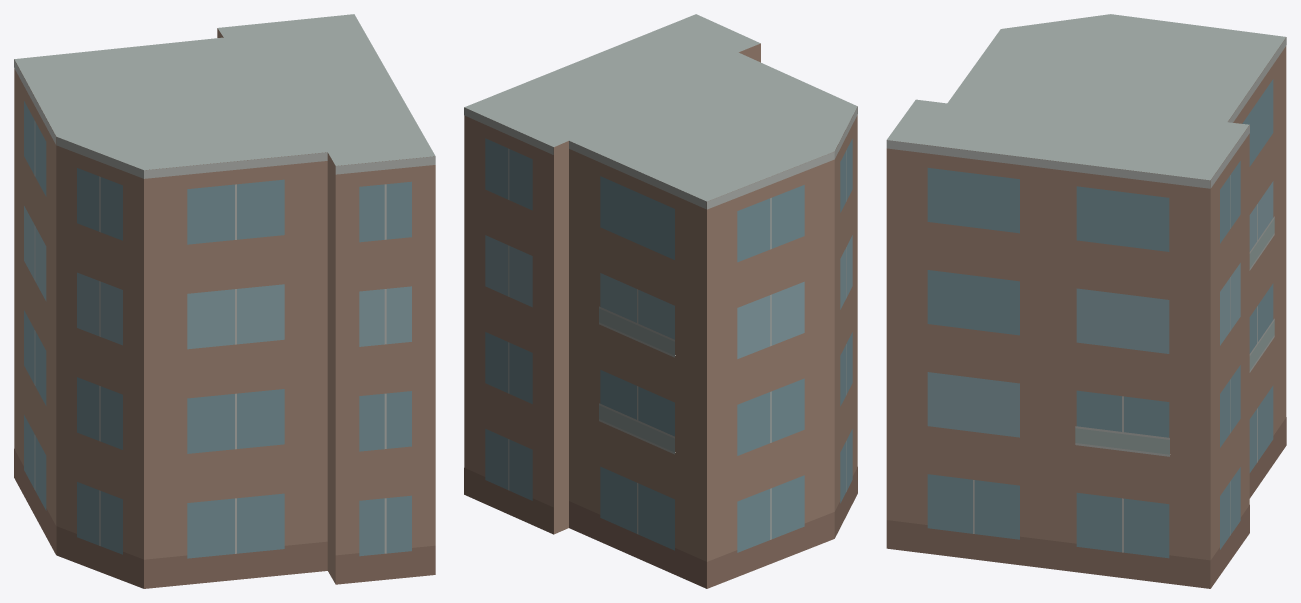
File: survey-upis-32868443.glb
3 renders of one model, left to right at view 1: azimuth 30°, elevation 25°; view 2: azimuth 150°, elevation 25°; view 3: azimuth 270°, elevation 25°, orthographic. The views are drawn at different scales.
Parts seen in each view (by area): view 1: survey-upis-32868443.tmp; view 2: survey-upis-32868443.tmp; view 3: survey-upis-32868443.tmp.
Part boxes in pixels (x1,y1,x2,y2): survey-upis-32868443.tmp: [14, 14, 435, 588]; survey-upis-32868443.tmp: [464, 14, 857, 588]; survey-upis-32868443.tmp: [886, 14, 1286, 588].
Bounding box in the file's own units: 10.31 × 11.8 × 10.48.
